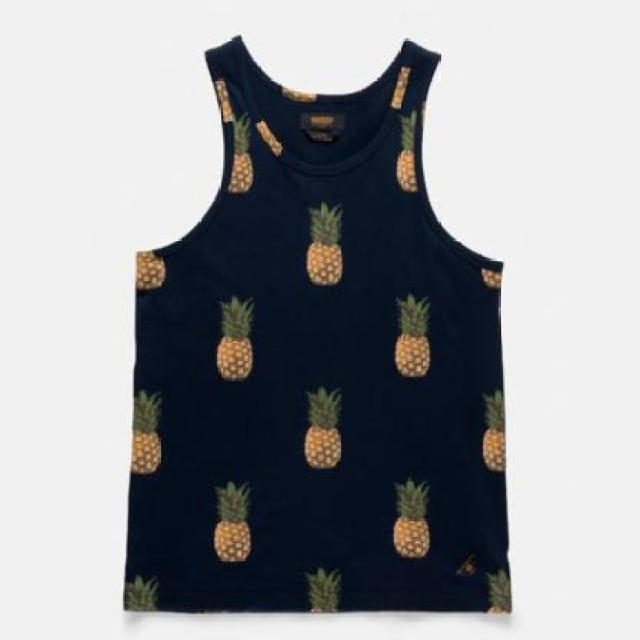Pineapple: (214, 298, 252, 384), (305, 386, 344, 469), (213, 482, 253, 560), (392, 480, 430, 560), (304, 200, 341, 282), (396, 293, 430, 373), (134, 390, 162, 475), (222, 110, 248, 193), (483, 389, 508, 474), (309, 561, 340, 614), (122, 573, 162, 613), (398, 107, 417, 190), (487, 566, 515, 612), (134, 248, 164, 288), (480, 266, 498, 286)
